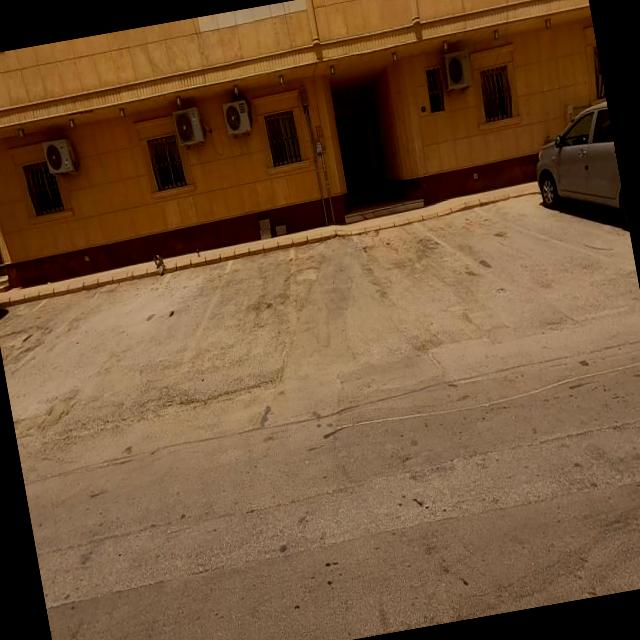debris: (122, 204, 192, 331)
